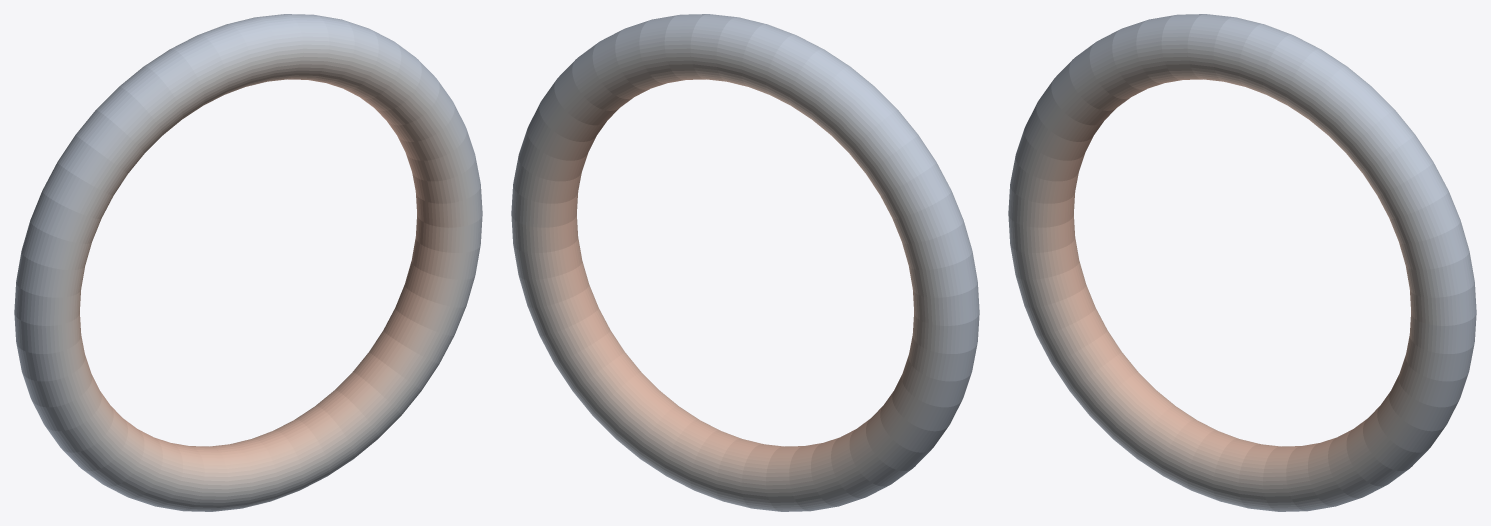
3 renders of one model, left to right at view 1: azimuth 30°, elevation 25°; view 2: azimuth 150°, elevation 25°; view 3: azimuth 330°, elevation 25°, orthographic.
Parts seen in each view (by area): view 1: world; view 2: world; view 3: world.
Part boxes in pixels (x1,y1,x2,y2): world: (14, 14, 482, 511); world: (511, 14, 979, 511); world: (1008, 14, 1476, 511).
Bounding box in the file's own units: 33.47 × 33.4 × 4.13.
